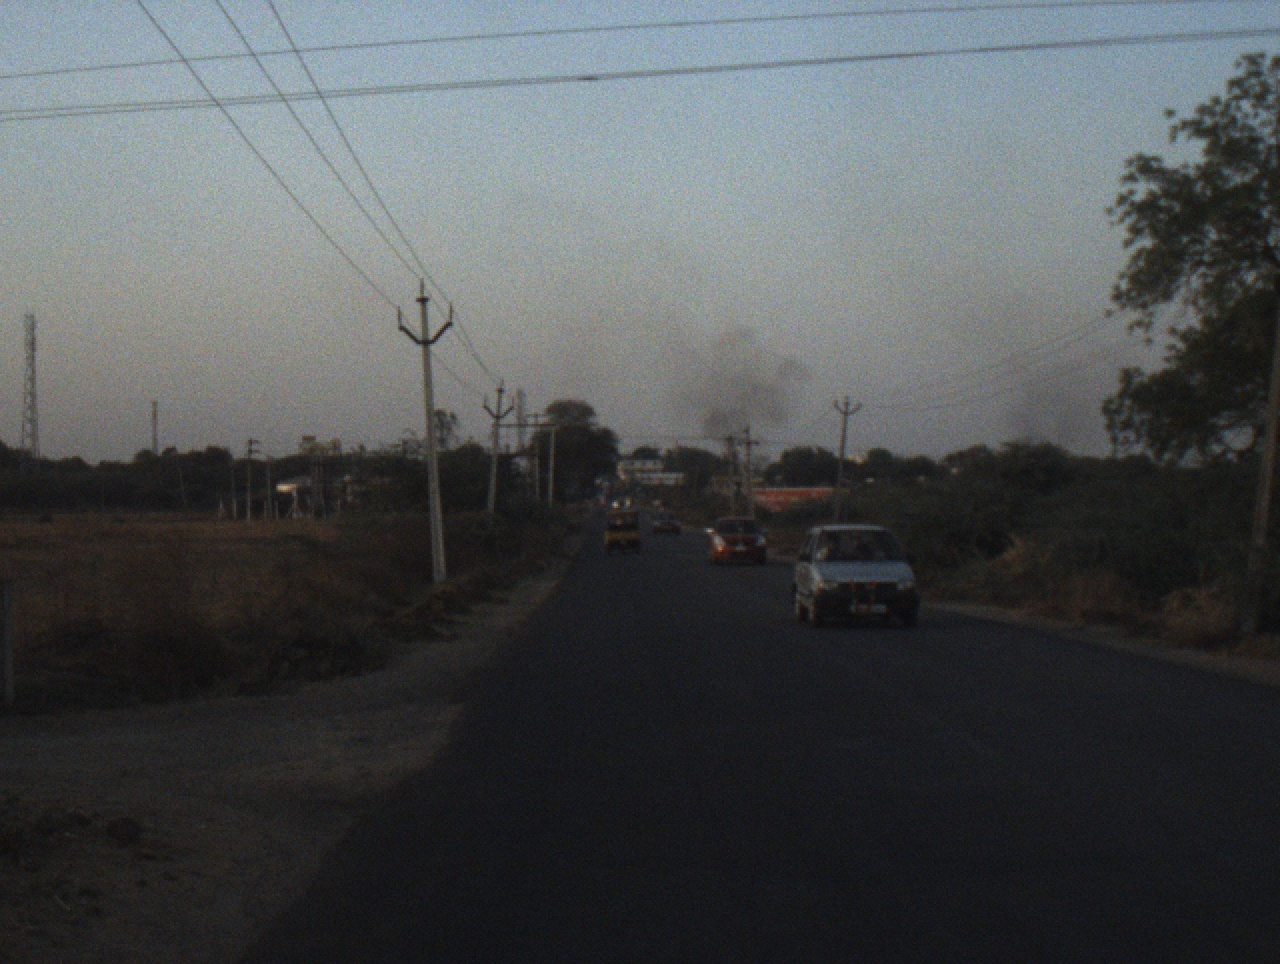autorickshaw: (597, 504, 648, 557)
car: (789, 526, 919, 632), (700, 514, 770, 567), (648, 508, 683, 535)
vehicle fallback: (608, 491, 635, 510)
